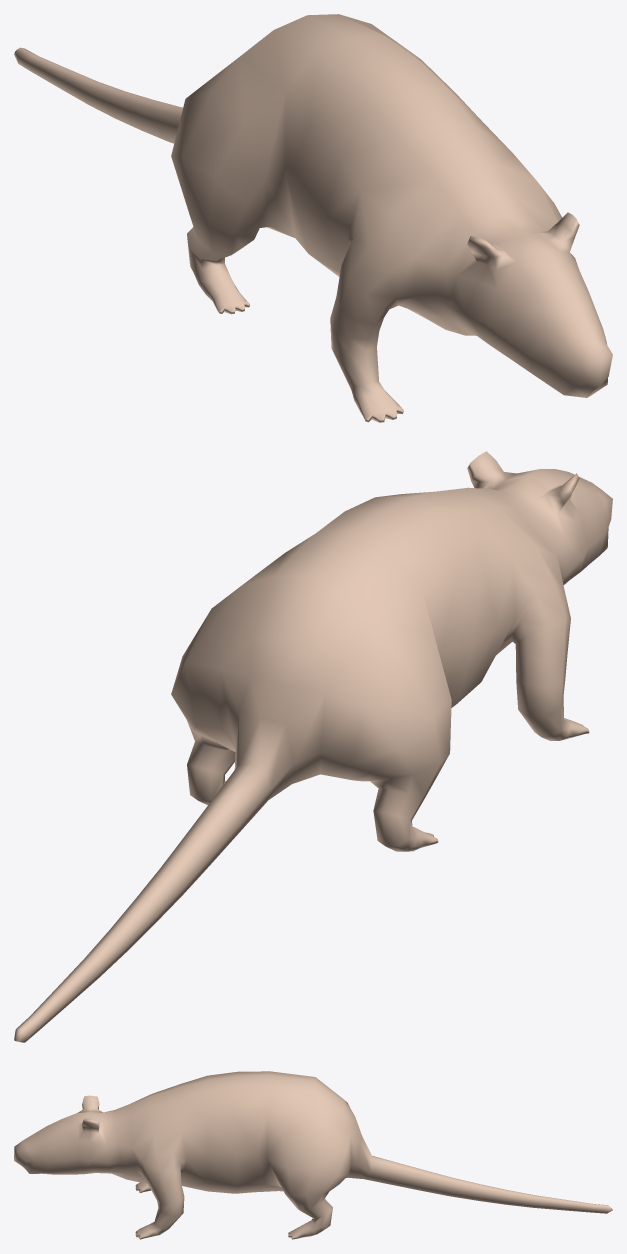
Rendered from Mouse.fbx.
3 renders of one model, top to bottom at view 1: azimuth 30°, elevation 25°; view 2: azimuth 150°, elevation 25°; view 3: azimuth 270°, elevation 25°, orthographic. The views are drawn at different scales.
Visible parts, largest first — view 1: Rodent1:rat; view 2: Rodent1:rat; view 3: Rodent1:rat.
Part boxes in pixels (bbox=[...]): Rodent1:rat: bbox=[14, 14, 612, 422]; Rodent1:rat: bbox=[14, 451, 612, 1042]; Rodent1:rat: bbox=[14, 1071, 612, 1239].
Bounding box in the file's own units: 4.7 × 4.8 × 18.96.
